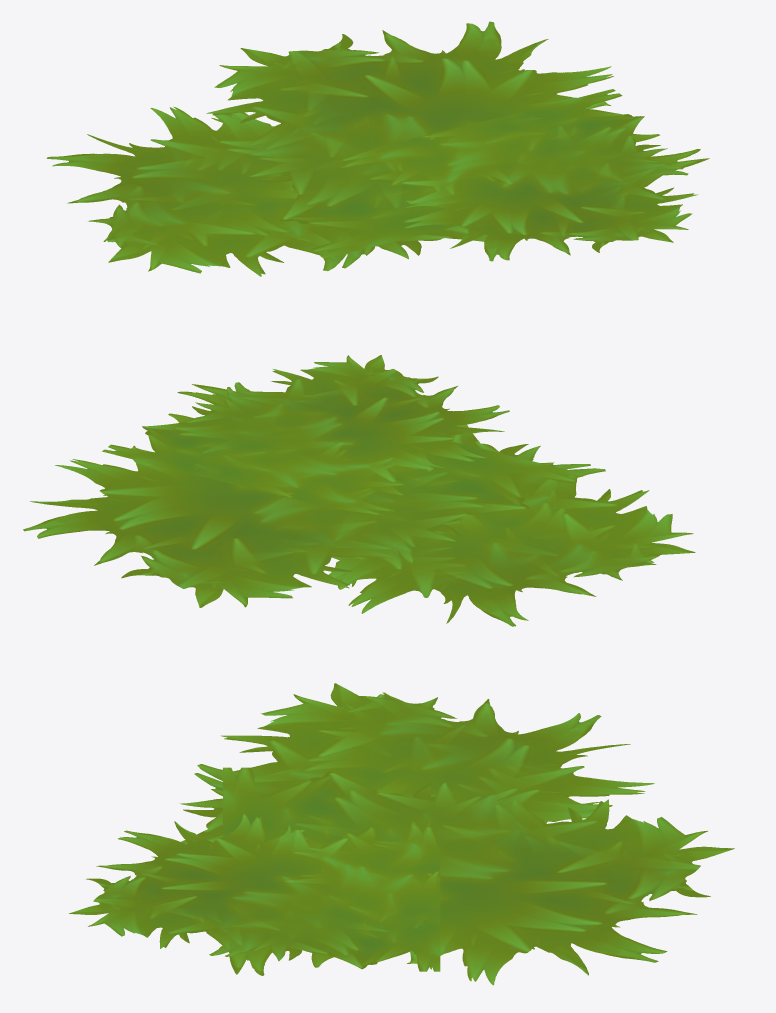
Rendered from Grass_Mask03_corner.fbx.
The picture shows the model from 3 angles, top to bottom: view 1: azimuth 30°, elevation 25°; view 2: azimuth 150°, elevation 25°; view 3: azimuth 270°, elevation 25°; orthographic projection. The views are drawn at different scales.
Parts seen in each view (by area): view 1: Grass_Mask003; view 2: Grass_Mask003; view 3: Grass_Mask003.
Part boxes in pixels (x1,y1,x2,y2): Grass_Mask003: (46, 21, 709, 276); Grass_Mask003: (23, 355, 695, 626); Grass_Mask003: (69, 683, 734, 985).
Size of the model in its own units: 143 by 0.7444 by 131.
Materials: 1 (1 with a texture image).
